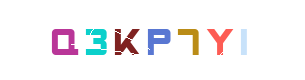3: (57, 0, 137, 80)
7: (117, 0, 197, 80)
I: (173, 0, 253, 80)
K: (84, 0, 164, 80)
P: (114, 0, 194, 80)
Q: (24, 0, 104, 80)
Y: (151, 0, 231, 80)
